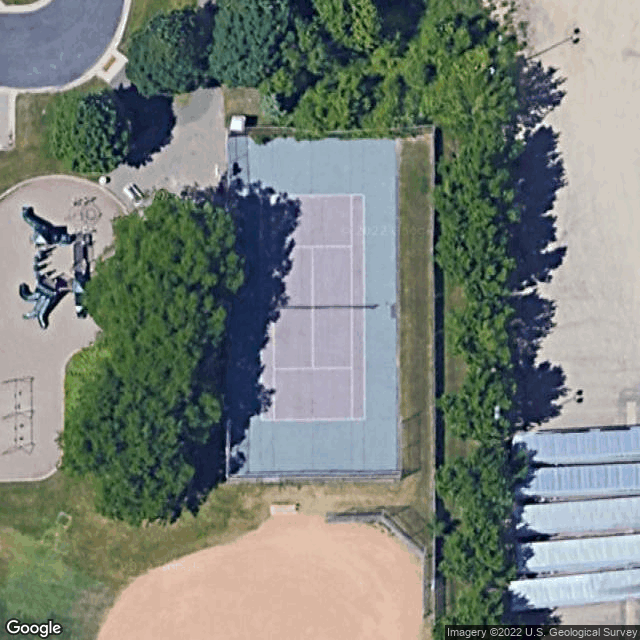Court: (259, 193, 366, 421)
